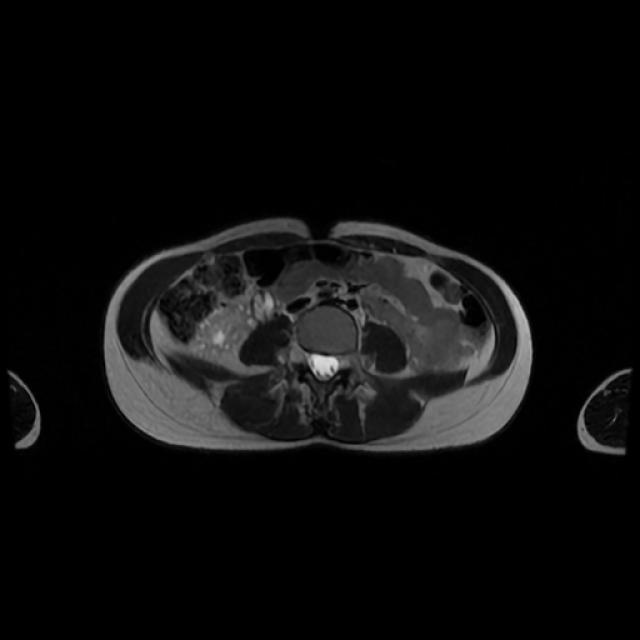sag: (195, 305, 253, 356)
